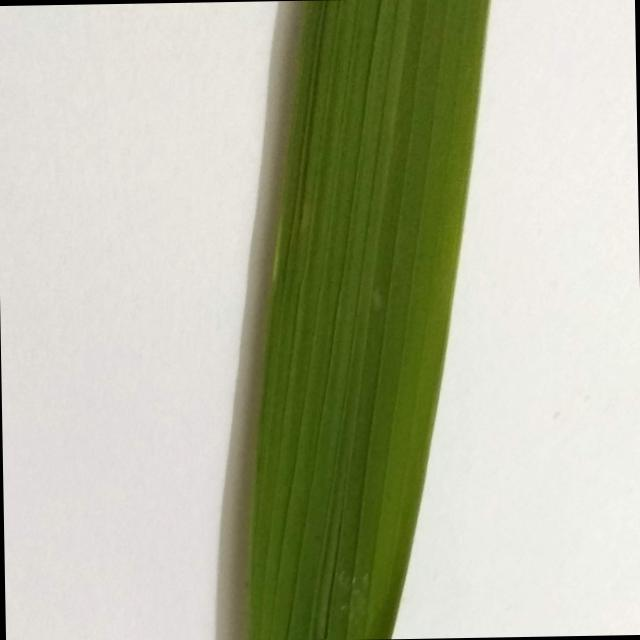Rice_Healthy: (247, 0, 489, 640)
